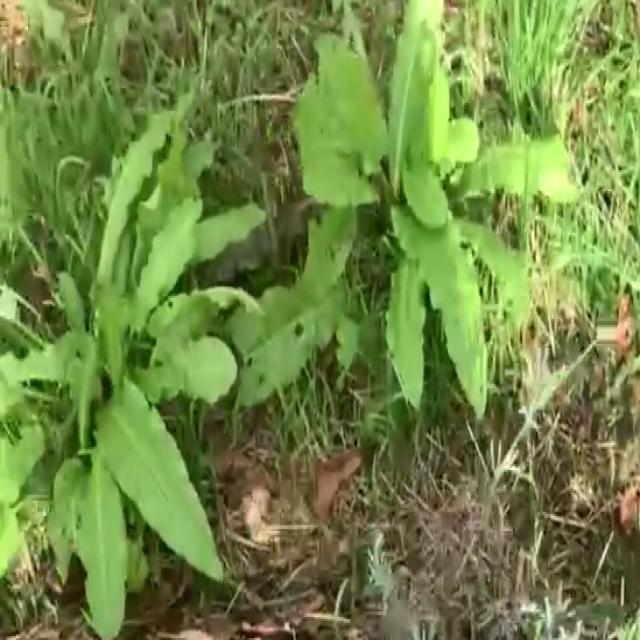organic waste: (263, 0, 605, 428), (0, 116, 262, 628)
